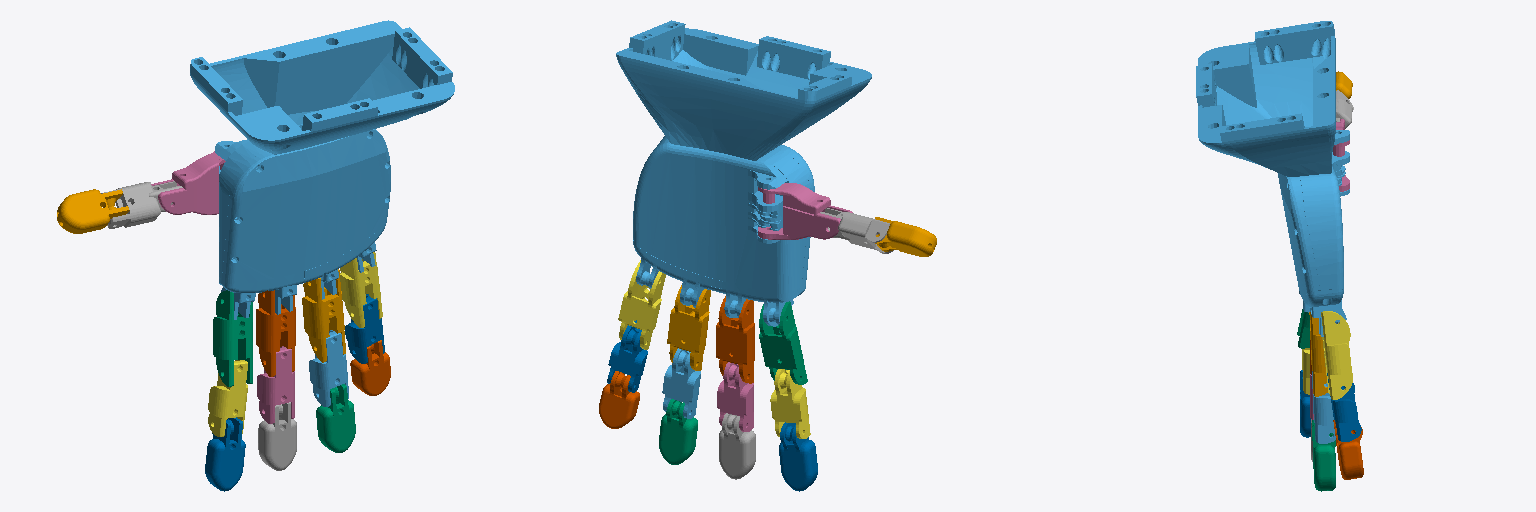
robot.urdf — ruka_left:
<?xml version="1.0"?>
<robot name="ruka_left">
  <link name="base_link">
    <inertial>
      <origin xyz="0 0 0" rpy="0 0 0"/>
      <mass value="0.001"/>
      <inertia ixx="1e-06" ixy="0" ixz="0" iyy="1e-06" iyz="0" izz="1e-06"/>
    </inertial>
  </link>
  <joint name="base_to_palm" type="fixed">
    <origin xyz="0 0 0" rpy="0 0 0"/>
    <parent link="base_link"/>
    <child link="Palm_Link"/>
  </joint>
  <link name="Palm_Link">
    <visual>
      <origin xyz="0.00000000 0.00000000 0.00000000" rpy="0.00000000 0.00000000 0.00000000"/>
      <geometry><mesh filename="meshes/Palm.STL"/></geometry>
    </visual>
  </link>
  <link name="Index_MCP_Link">
    <inertial>
      <origin xyz="-0.02887240 -0.00000001 0.00378475" rpy="-3.14159265 1.56785193 0.00000000"/>
      <mass value="0.00327912"/>
      <inertia ixx="1.41290423e-07" ixy="0.00000000e+00" ixz="8.23038687e-10" iyy="3.58574000e-07" iyz="0.00000000e+00" izz="4.20814577e-07"/>
    </inertial>
    <visual>
      <origin xyz="0.04600000 0.00500000 -0.00300000" rpy="0.00000000 -0.00000000 0.00000000"/>
      <geometry><mesh filename="meshes/Index_MCP.STL"/></geometry>
    </visual>
    <collision>
      <origin xyz="0.01600000 0.00500000 0.00010000" rpy="0.00000000 -0.00000000 0.00000000"/>
      <geometry><box size="0.030000 0.014000 0.010000"/></geometry>
    </collision>
  </link>
  <link name="Index_DIP_Link">
    <inertial>
      <origin xyz="-0.00073441 -0.00000013 0.00333493" rpy="3.14159265 1.51985792 0.00000000"/>
      <mass value="0.0030053"/>
      <inertia ixx="9.14346587e-08" ixy="0.00000000e+00" ixz="-9.51029437e-09" iyy="2.50136000e-07" iyz="0.00000000e+00" izz="2.77490141e-07"/>
    </inertial>
    <visual>
      <origin xyz="0.01200000 0.00500000 -0.00300000" rpy="0.00000000 -0.00000000 0.00000000"/>
      <geometry><mesh filename="meshes/Index_DIP.STL"/></geometry>
    </visual>
    <collision>
      <origin xyz="0.01200000 0.00500000 0.00000000" rpy="0.00000000 -0.00000000 0.00000000"/>
      <geometry><box size="0.034000 0.014000 0.010000"/></geometry>
    </collision>
  </link>
  <link name="Index_PIP_Link">
    <inertial>
      <origin xyz="0.02740830 0.00000010 0.00320314" rpy="-0.00001073 1.51497287 3.14159265"/>
      <mass value="0.00356977"/>
      <inertia ixx="1.11979619e-07" ixy="-1.93265309e-12" ixz="1.23407277e-08" iyy="2.91756000e-07" iyz="1.07999340e-13" izz="3.32127381e-07"/>
    </inertial>
    <visual>
      <origin xyz="-0.01300000 0.00040000 -0.00500000" rpy="0.00000000 -0.00000000 0.00000000"/>
      <geometry><mesh filename="meshes/Index_PIP.STL"/></geometry>
    </visual>
    <collision>
      <origin xyz="0.01500000 0.00040000 -0.00200000" rpy="0.00000000 -0.00000000 0.00000000"/>
      <geometry><box size="0.029000 0.014000 0.010000"/></geometry>
    </collision>
  </link>
  <link name="Middle_MCP_Link">
    <inertial>
      <origin xyz="-0.02887240 -0.00000001 0.00378477" rpy="-3.14159265 1.56785193 0.00000000"/>
      <mass value="0.00327911"/>
      <inertia ixx="1.41290423e-07" ixy="0.00000000e+00" ixz="8.23032798e-10" iyy="3.58572000e-07" iyz="0.00000000e+00" izz="4.20812577e-07"/>
    </inertial>
    <visual>
      <origin xyz="0.04600000 0.00000000 -0.00300000" rpy="0.00000000 -0.00000000 0.00000000"/>
      <geometry><mesh filename="meshes/Middle_MCP.STL"/></geometry>
    </visual>
    <collision>
      <origin xyz="0.01600000 0.00000000 0.00010000" rpy="0.00000000 -0.00000000 0.00000000"/>
      <geometry><box size="0.034000 0.014000 0.010000"/></geometry>
    </collision>
  </link>
  <link name="Middle_DIP_Link">
    <inertial>
      <origin xyz="-0.00073441 -0.00000013 0.00333494" rpy="3.14159265 1.51985792 0.00000000"/>
      <mass value="0.0030053"/>
      <inertia ixx="9.14347584e-08" ixy="0.00000000e+00" ixz="-9.51028928e-09" iyy="2.50136000e-07" iyz="0.00000000e+00" izz="2.77490142e-07"/>
    </inertial>
    <visual>
      <origin xyz="0.01200000 0.00000000 -0.00300000" rpy="0.00000000 -0.00000000 0.00000000"/>
      <geometry><mesh filename="meshes/Middle_DIP.STL"/></geometry>
    </visual>
    <collision>
      <origin xyz="0.01200000 0.00000000 0.00000000" rpy="0.00000000 -0.00000000 0.00000000"/>
      <geometry><box size="0.034000 0.014000 0.010000"/></geometry>
    </collision>
  </link>
  <link name="Middle_PIP_Link">
    <inertial>
      <origin xyz="0.02740830 0.00000010 0.00320314" rpy="-0.00000976 1.51497287 3.14159265"/>
      <mass value="0.00356977"/>
      <inertia ixx="1.11979619e-07" ixy="-1.75842084e-12" ixz="1.23407277e-08" iyy="2.91756000e-07" iyz="9.82628583e-14" izz="3.32127381e-07"/>
    </inertial>
    <visual>
      <origin xyz="-0.01400000 0.00000000 -0.00450000" rpy="0.00000000 -0.00000000 0.00000000"/>
      <geometry><mesh filename="meshes/Middle_PIP.STL"/></geometry>
    </visual>
    <collision>
      <origin xyz="0.01500000 0.00040000 -0.00200000" rpy="0.00000000 -0.00000000 0.00000000"/>
      <geometry><box size="0.029000 0.014000 0.010000"/></geometry>
    </collision>
  </link>
  <link name="Ring_MCP_Link">
    <inertial>
      <origin xyz="-0.02887240 -0.00000001 0.00378476" rpy="-3.14159265 1.56785193 0.00000000"/>
      <mass value="0.00327912"/>
      <inertia ixx="1.41290423e-07" ixy="0.00000000e+00" ixz="8.23038687e-10" iyy="3.58574000e-07" iyz="0.00000000e+00" izz="4.20814577e-07"/>
    </inertial>
    <visual>
      <origin xyz="0.04600000 0.00000000 -0.00400000" rpy="0.00000000 -0.00000000 0.00000000"/>
      <geometry><mesh filename="meshes/Ring_MCP.STL"/></geometry>
    </visual>
    <collision>
      <origin xyz="0.01600000 0.00000000 0.00010000" rpy="0.00000000 -0.00000000 0.00000000"/>
      <geometry><box size="0.030000 0.014000 0.010000"/></geometry>
    </collision>
  </link>
  <link name="Ring_DIP_Link">
    <inertial>
      <origin xyz="-0.00073441 -0.00000013 0.00333494" rpy="3.14159265 1.51985792 0.00000000"/>
      <mass value="0.00300529"/>
      <inertia ixx="9.14347584e-08" ixy="0.00000000e+00" ixz="-9.51028928e-09" iyy="2.50136000e-07" iyz="0.00000000e+00" izz="2.77490142e-07"/>
    </inertial>
    <visual>
      <origin xyz="0.01000000 0.00000000 -0.00400000" rpy="0.00000000 -0.00000000 0.00000000"/>
      <geometry><mesh filename="meshes/Ring_DIP.STL"/></geometry>
    </visual>
    <collision>
      <origin xyz="0.01000000 0.00000000 0.00000000" rpy="0.00000000 -0.00000000 0.00000000"/>
      <geometry><box size="0.030000 0.014000 0.010000"/></geometry>
    </collision>
  </link>
  <link name="Ring_PIP_Link">
    <inertial>
      <origin xyz="0.02740830 0.00000010 0.00320315" rpy="-0.00000936 1.51497432 3.14159265"/>
      <mass value="0.00356976"/>
      <inertia ixx="1.11979580e-07" ixy="-1.68673134e-12" ixz="1.23403521e-08" iyy="2.91756000e-07" iyz="9.42545028e-14" izz="3.32126420e-07"/>
    </inertial>
    <visual>
      <origin xyz="-0.01500000 0.00000000 -0.00500000" rpy="0.00000000 -0.00000000 0.00000000"/>
      <geometry><mesh filename="meshes/Ring_PIP.STL"/></geometry>
    </visual>
    <collision>
      <origin xyz="0.01300000 0.00010000 -0.00170000" rpy="0.00000000 -0.00000000 0.00000000"/>
      <geometry><box size="0.028000 0.014000 0.010000"/></geometry>
    </collision>
  </link>
  <link name="Pinky_MCP_Link">
    <inertial>
      <origin xyz="-0.02689170 -0.00000002 0.00337657" rpy="3.14158430 1.56263912 -0.00000000"/>
      <mass value="0.00308279"/>
      <inertia ixx="1.30752033e-07" ixy="-1.67729172e-12" ixz="-2.08801325e-09" iyy="3.31476000e-07" iyz="-1.36821654e-14" izz="3.86700967e-07"/>
    </inertial>
    <visual>
      <origin xyz="0.04200000 0.00000000 -0.00400000" rpy="0.00000000 -0.00000000 0.00000000"/>
      <geometry><mesh filename="meshes/Pinky_MCP.STL"/></geometry>
    </visual>
    <collision>
      <origin xyz="0.01400000 0.00000000 0.00000000" rpy="0.00000000 -0.00000000 0.00000000"/>
      <geometry><box size="0.034000 0.014000 0.010000"/></geometry>
    </collision>
  </link>
  <link name="Pinky_DIP_Link">
    <inertial>
      <origin xyz="-0.00075721 -0.00000014 0.00329943" rpy="3.14159265 1.51054172 0.00000000"/>
      <mass value="0.00260945"/>
      <inertia ixx="7.77156573e-08" ixy="0.00000000e+00" ixz="-8.13321083e-09" iyy="1.89485000e-07" iyz="0.00000000e+00" izz="2.12042343e-07"/>
    </inertial>
    <visual>
      <origin xyz="0.01000000 0.00000000 -0.00370000" rpy="0.00000000 -0.00000000 0.00000000"/>
      <geometry><mesh filename="meshes/Pinky_DIP.STL"/></geometry>
    </visual>
    <collision>
      <origin xyz="0.01000000 0.00000000 0.00000000" rpy="0.00000000 -0.00000000 0.00000000"/>
      <geometry><box size="0.030000 0.014000 0.010000"/></geometry>
    </collision>
  </link>
  <link name="Pinky_PIP_Link">
    <inertial>
      <origin xyz="0.02365750 -0.00000009 0.00338829" rpy="-0.00001441 1.51923689 -3.14159265"/>
      <mass value="0.00306875"/>
      <inertia ixx="9.65855589e-08" ixy="-1.43811057e-12" ixz="6.92874012e-09" iyy="1.96147000e-07" iyz="7.42142439e-14" izz="2.30492441e-07"/>
    </inertial>
    <visual>
      <origin xyz="-0.01300000 0.00000000 -0.00500000" rpy="0.00000000 -0.00000000 0.00000000"/>
      <geometry><mesh filename="meshes/Pinky_PIP.STL"/></geometry>
    </visual>
    <collision>
      <origin xyz="0.01250000 0.00010000 -0.00170000" rpy="0.00000000 -0.00000000 0.00000000"/>
      <geometry><box size="0.021000 0.014000 0.010000"/></geometry>
    </collision>
  </link>
  <link name="Thumb_MCP_Link">
    <inertial>
      <origin xyz="-0.01625260 -0.00468252 0.00333969" rpy="3.10037753 1.41738011 -0.02266381"/>
      <mass value="0.00526715"/>
      <inertia ixx="3.78342689e-07" ixy="-3.45351640e-09" ixz="-5.79254673e-08" iyy="5.49214734e-07" iyz="1.80650659e-10" izz="7.44165578e-07"/>
    </inertial>
    <visual>
      <origin xyz="0.00000000 0.00000000 -0.00700000" rpy="0.00000000 -0.00000000 0.00000000"/>
      <geometry><mesh filename="meshes/Thumb_MCP.STL"/></geometry>
    </visual>
    <collision>
      <origin xyz="-0.01300000 -0.00300000 -0.00320000" rpy="0.00000000 -0.00000000 0.00000000"/>
      <geometry><box size="0.040000 0.027000 0.010000"/></geometry>
    </collision>
  </link>
  <link name="Thumb_DIP_Link">
    <inertial>
      <origin xyz="0.00035916 0.00005043 0.00349653" rpy="2.44144043 1.55643312 -0.70653424"/>
      <mass value="0.0033002"/>
      <inertia ixx="1.24638475e-07" ixy="9.75172684e-10" ixz="-2.30332076e-09" iyy="2.79541579e-07" iyz="5.24312214e-10" izz="3.34593945e-07"/>
    </inertial>
    <visual>
      <origin xyz="0.01300000 0.00000000 -0.00190000" rpy="-0.79999936 -0.00000000 0.00000000"/>
      <geometry><mesh filename="meshes/Thumb_DIP.STL"/></geometry>
    </visual>
    <collision>
      <origin xyz="0.01300000 0.00300000 0.00050000" rpy="-0.79999936 -0.00000000 0.00000000"/>
      <geometry><box size="0.030000 0.014000 0.010000"/></geometry>
    </collision>
  </link>
  <link name="Thumb_PIP_Link">
    <inertial>
      <origin xyz="0.02821040 -0.00000005 0.00319437" rpy="0.00002681 1.51017103 3.14159265"/>
      <mass value="0.00347336"/>
      <inertia ixx="1.22784449e-07" ixy="3.67581857e-12" ixz="1.15066299e-08" iyy="2.59469000e-07" iyz="-2.23121257e-13" izz="3.11652551e-07"/>
    </inertial>
    <visual>
      <origin xyz="-0.01500000 0.00000000 -0.00500000" rpy="0.00000000 -0.00000000 0.00000000"/>
      <geometry><mesh filename="meshes/Thumb_PIP.STL"/></geometry>
    </visual>
    <collision>
      <origin xyz="0.01300000 0.00000000 -0.00170000" rpy="0.00000000 -0.00000000 0.00000000"/>
      <geometry><box size="0.026000 0.015000 0.010000"/></geometry>
    </collision>
  </link>
  <joint name="Index_MCP_Joint" type="revolute">
    <origin xyz="-0.03220000 0.01460070 -0.08022000" rpy="2.53259463 1.36009924 -2.12570493"/>
    <parent link="Palm_Link"/>
    <child link="Index_MCP_Link"/>
    <axis xyz="0.000000 1.000000 0.000000"/>
    <limit lower="0.00000" upper="2.44222" effort="10" velocity="10"/>
  </joint>
  <joint name="Index_DIP_Joint" type="revolute">
    <origin xyz="0.03505700 0.00000000 0.00200000" rpy="0.00000000 -0.17453000 0.00000000"/>
    <parent link="Index_MCP_Link"/>
    <child link="Index_DIP_Link"/>
    <axis xyz="0.000000 1.000000 0.000000"/>
    <limit lower="0.00000" upper="2.09000" effort="10" velocity="10"/>
  </joint>
  <joint name="Index_PIP_Joint" type="revolute">
    <origin xyz="0.02700000 0.00450000 0.00100000" rpy="0.00000000 -0.00000000 0.00000000"/>
    <parent link="Index_DIP_Link"/>
    <child link="Index_PIP_Link"/>
    <axis xyz="0.000000 1.000000 0.000000"/>
    <limit lower="0.00000" upper="2.09000" effort="10" velocity="10"/>
  </joint>
  <joint name="Middle_MCP_Joint" type="revolute">
    <origin xyz="-0.01518000 0.01354140 -0.08100000" rpy="-1.57079633 1.57079633 0.00000000"/>
    <parent link="Palm_Link"/>
    <child link="Middle_MCP_Link"/>
    <axis xyz="0.000000 1.000000 0.000000"/>
    <limit lower="0.00000" upper="2.44222" effort="10" velocity="10"/>
  </joint>
  <joint name="Middle_DIP_Joint" type="revolute">
    <origin xyz="0.03400000 0.00000000 0.00000000" rpy="0.00000000 -0.00000000 0.00000000"/>
    <parent link="Middle_MCP_Link"/>
    <child link="Middle_DIP_Link"/>
    <axis xyz="0.000000 1.000000 0.000000"/>
    <limit lower="0.00000" upper="2.09000" effort="10" velocity="10"/>
  </joint>
  <joint name="Middle_PIP_Joint" type="revolute">
    <origin xyz="0.02600000 0.00000000 0.00200000" rpy="0.00000000 -0.00000000 0.00000000"/>
    <parent link="Middle_DIP_Link"/>
    <child link="Middle_PIP_Link"/>
    <axis xyz="0.000000 1.000000 0.000000"/>
    <limit lower="0.00000" upper="2.09000" effort="10" velocity="10"/>
  </joint>
  <joint name="Ring_MCP_Joint" type="revolute">
    <origin xyz="0.00880000 0.01453000 -0.08009000" rpy="-1.28059549 1.45980129 0.34861406"/>
    <parent link="Palm_Link"/>
    <child link="Ring_MCP_Link"/>
    <axis xyz="0.000000 1.000000 0.000000"/>
    <limit lower="0.00000" upper="2.44222" effort="10" velocity="10"/>
  </joint>
  <joint name="Ring_DIP_Joint" type="revolute">
    <origin xyz="0.03600000 0.00000000 0.00000000" rpy="0.00000000 -0.00000000 0.00000000"/>
    <parent link="Ring_MCP_Link"/>
    <child link="Ring_DIP_Link"/>
    <axis xyz="0.000000 1.000000 0.000000"/>
    <limit lower="0.00000" upper="2.09000" effort="10" velocity="10"/>
  </joint>
  <joint name="Ring_PIP_Joint" type="revolute">
    <origin xyz="0.02574600 0.00000000 0.00000000" rpy="0.00000000 -0.00000000 0.00000000"/>
    <parent link="Ring_DIP_Link"/>
    <child link="Ring_PIP_Link"/>
    <axis xyz="0.000000 1.000000 0.000000"/>
    <limit lower="0.00000" upper="2.09000" effort="10" velocity="10"/>
  </joint>
  <joint name="Pinky_MCP_Joint" type="revolute">
    <origin xyz="0.03061700 0.02031300 -0.07398000" rpy="-1.14039703 1.36180011 0.55660297"/>
    <parent link="Palm_Link"/>
    <child link="Pinky_MCP_Link"/>
    <axis xyz="0.000000 1.000000 0.000000"/>
    <limit lower="0.00000" upper="2.44222" effort="10" velocity="10"/>
  </joint>
  <joint name="Pinky_DIP_Joint" type="revolute">
    <origin xyz="0.03200000 0.00000000 0.00000000" rpy="0.00000000 -0.02773508 0.00000000"/>
    <parent link="Pinky_MCP_Link"/>
    <child link="Pinky_DIP_Link"/>
    <axis xyz="0.000000 1.000000 0.000000"/>
    <limit lower="0.00000" upper="2.09000" effort="10" velocity="10"/>
  </joint>
  <joint name="Pinky_PIP_Joint" type="revolute">
    <origin xyz="0.02300000 0.00000000 0.00100000" rpy="0.00000000 -0.00000000 0.00000000"/>
    <parent link="Pinky_DIP_Link"/>
    <child link="Pinky_PIP_Link"/>
    <axis xyz="0.000000 1.000000 0.000000"/>
    <limit lower="0.00000" upper="2.09000" effort="10" velocity="10"/>
  </joint>
  <joint name="Thumb_CMC_Joint" type="revolute">
    <origin xyz="-0.03768800 0.02222500 -0.02511800" rpy="-1.57079916 0.00000010 -0.03185496"/>
    <parent link="Palm_Link"/>
    <child link="Thumb_MCP_Link"/>
    <axis xyz="0.000000 1.000000 0.000000"/>
    <limit lower="-3.31400" upper="0.00000" effort="10" velocity="10"/>
  </joint>
  <joint name="Thumb_MCP_Joint" type="revolute">
    <origin xyz="-0.03393500 -0.00440940 -0.00659990" rpy="1.57079067 0.00000000 3.14158531"/>
    <parent link="Thumb_MCP_Link"/>
    <child link="Thumb_DIP_Link"/>
    <axis xyz="0.000000 1.000000 0.000000"/>
    <limit lower="0.00000" upper="1.57000" effort="10" velocity="10"/>
  </joint>
  <joint name="Thumb_IP_Joint" type="revolute">
    <origin xyz="0.02779400 0.00350000 0.00000700" rpy="-0.78539962 -0.00000000 0.00000000"/>
    <parent link="Thumb_DIP_Link"/>
    <child link="Thumb_PIP_Link"/>
    <axis xyz="0.000000 1.000000 0.000000"/>
    <limit lower="0.00000" upper="2.09000" effort="10" velocity="10"/>
  </joint>
</robot>

--- Facts derived from the render (not from the file) ---
Views: 3 orthographic renders of the robot side by side, from view 1: azimuth 30°, elevation 25°; view 2: azimuth 150°, elevation 25°; view 3: azimuth 270°, elevation 25°.
Model ruka_left with 17 links and 16 joints (15 revolute, 1 fixed), rooted at base_link, posed every joint at zero.
Visible links, largest first — view 1: Palm_Link, Thumb_MCP_Link, Index_MCP_Link, Ring_MCP_Link, Middle_MCP_Link, Thumb_PIP_Link, Index_PIP_Link, Middle_PIP_Link, Ring_PIP_Link, Index_DIP_Link, Middle_DIP_Link, Pinky_MCP_Link (+4 smaller); view 2: Palm_Link, Thumb_MCP_Link, Middle_MCP_Link, Index_MCP_Link, Ring_MCP_Link, Pinky_MCP_Link, Index_PIP_Link, Index_DIP_Link, Middle_PIP_Link, Ring_PIP_Link, Middle_DIP_Link, Ring_DIP_Link (+4 smaller); view 3: Palm_Link, Pinky_MCP_Link, Ring_PIP_Link, Pinky_DIP_Link, Pinky_PIP_Link, Ring_MCP_Link, Ring_DIP_Link.
Link boxes in pixels (left/top/right/bottom): Palm_Link: left=190, top=20, right=454, bottom=319; Thumb_MCP_Link: left=151, top=151, right=225, bottom=214; Index_MCP_Link: left=213, top=290, right=252, bottom=386; Ring_MCP_Link: left=302, top=269, right=345, bottom=362; Middle_MCP_Link: left=256, top=290, right=295, bottom=376; Thumb_PIP_Link: left=57, top=189, right=129, bottom=233; Index_PIP_Link: left=205, top=417, right=245, bottom=491; Middle_PIP_Link: left=258, top=402, right=296, bottom=470; Ring_PIP_Link: left=316, top=384, right=355, bottom=452; Index_DIP_Link: left=208, top=360, right=247, bottom=436; Middle_DIP_Link: left=257, top=346, right=294, bottom=423; Pinky_MCP_Link: left=340, top=252, right=382, bottom=327; Palm_Link: left=616, top=20, right=871, bottom=326; Thumb_MCP_Link: left=758, top=183, right=852, bottom=239; Middle_MCP_Link: left=716, top=296, right=754, bottom=383; Index_MCP_Link: left=759, top=301, right=807, bottom=384; Ring_MCP_Link: left=667, top=285, right=710, bottom=370; Pinky_MCP_Link: left=618, top=260, right=665, bottom=349; Index_PIP_Link: left=779, top=422, right=817, bottom=491; Index_DIP_Link: left=770, top=369, right=810, bottom=438; Middle_PIP_Link: left=719, top=413, right=755, bottom=479; Ring_PIP_Link: left=659, top=399, right=697, bottom=464; Middle_DIP_Link: left=717, top=362, right=753, bottom=431; Ring_DIP_Link: left=662, top=348, right=700, bottom=418; Palm_Link: left=1196, top=21, right=1349, bottom=336; Pinky_MCP_Link: left=1321, top=311, right=1352, bottom=399; Ring_PIP_Link: left=1312, top=420, right=1335, bottom=491; Pinky_DIP_Link: left=1327, top=373, right=1361, bottom=441; Pinky_PIP_Link: left=1333, top=420, right=1363, bottom=479; Ring_MCP_Link: left=1309, top=312, right=1327, bottom=396; Ring_DIP_Link: left=1312, top=371, right=1335, bottom=443.
Size in the robot's own frame: 0.1798 by 0.0813 by 0.2172 metres.
16 mesh visuals loaded from 16 distinct referenced files (16 binary STL).
